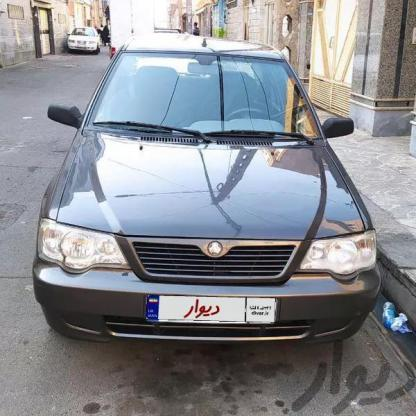Car: (30, 31, 376, 355), (66, 23, 102, 59)
